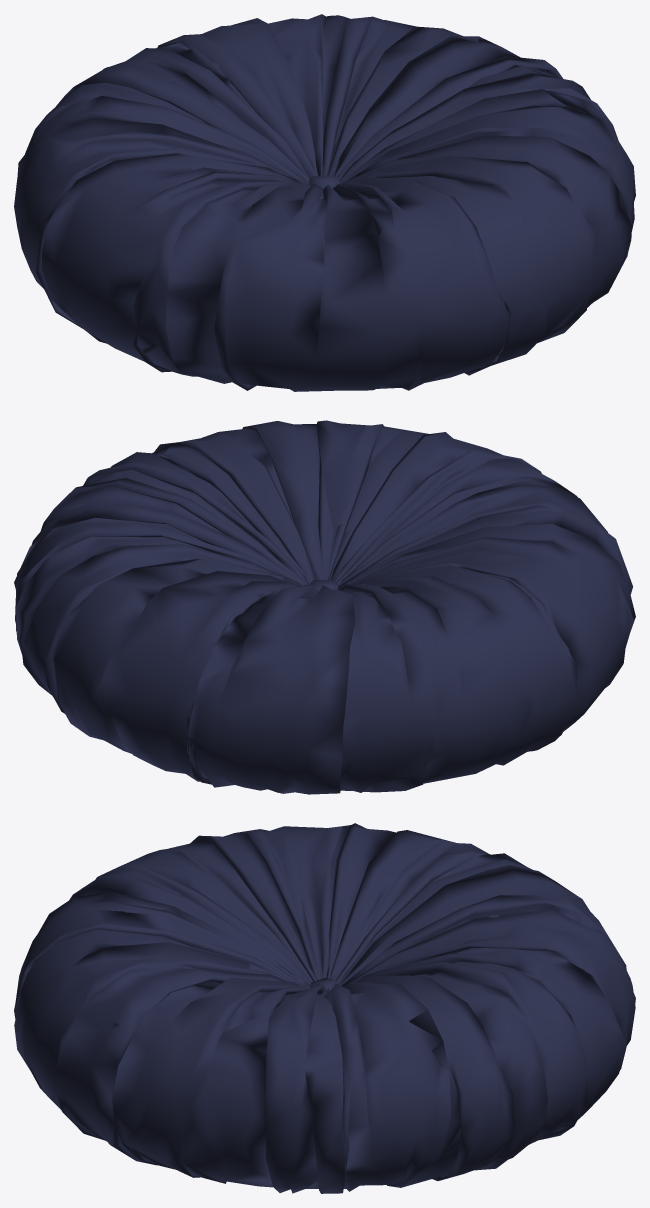
Rendered from SilkPouf.fbx.
The picture shows the model from 3 angles, top to bottom: view 1: azimuth 30°, elevation 25°; view 2: azimuth 150°, elevation 25°; view 3: azimuth 270°, elevation 25°; orthographic projection.
Visible parts, largest first — view 1: SpecularSilkPouf; view 2: SpecularSilkPouf; view 3: SpecularSilkPouf.
Part boxes in pixels (<box>): SpecularSilkPouf: <box>14,14,635,391</box>; SpecularSilkPouf: <box>14,420,635,794</box>; SpecularSilkPouf: <box>14,823,635,1193</box>.
Size of the model in its own units: 0.6103 by 0.1966 by 0.6103.
